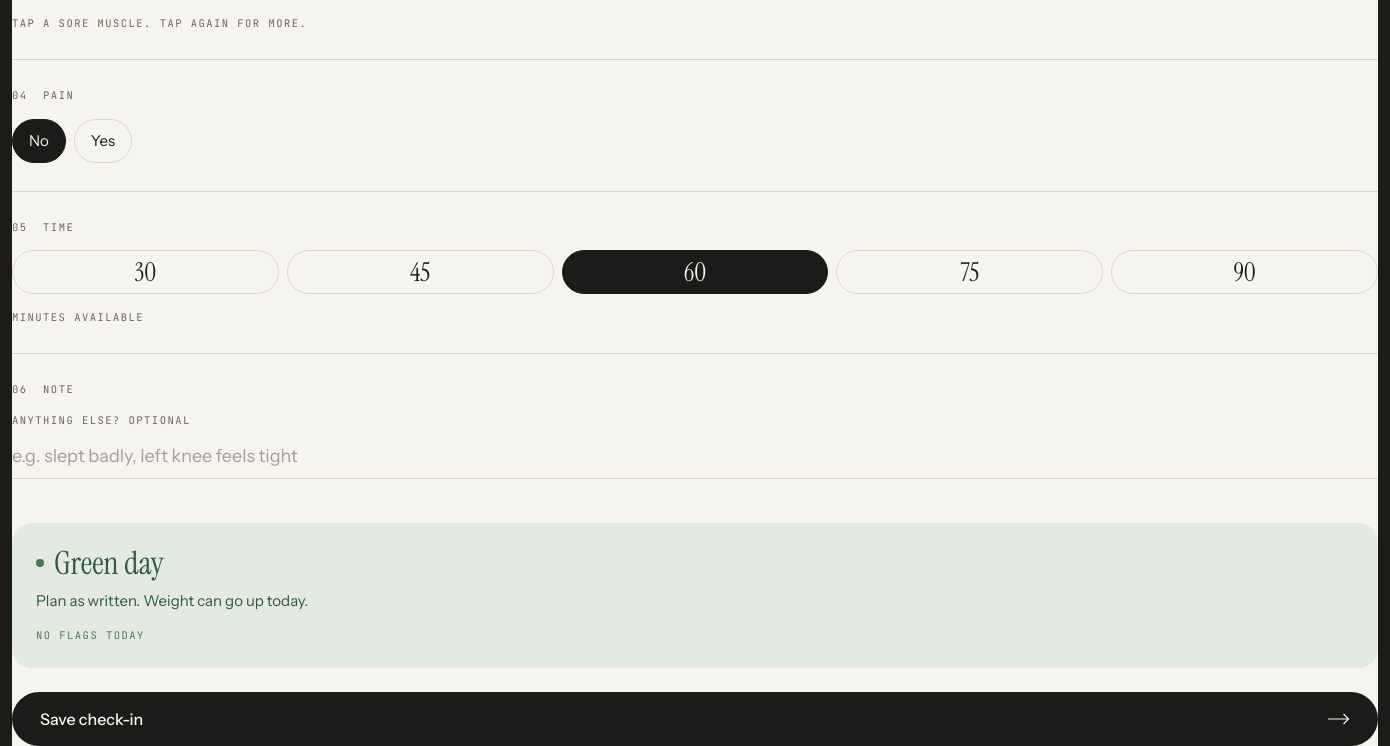
Scenario: check-in screen › shows an error if saving fails and stays on the form
The width and height of the screenshot is (1390, 746).
(page scrolled)
Click the button "Save check-in".
click(92, 719)  # box [12, 692, 1378, 745]
(page scrolled)
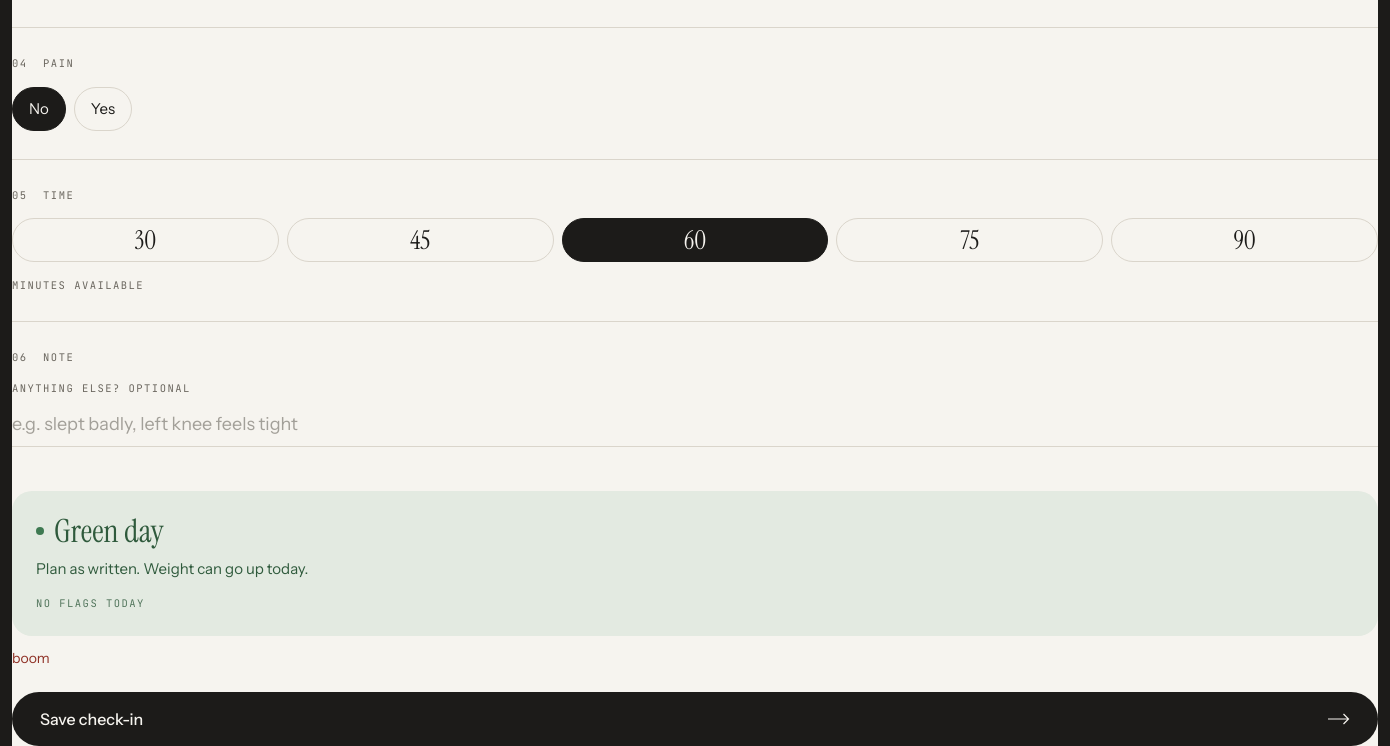
Check: the message "boom" is shown, box [12, 649, 50, 667]
